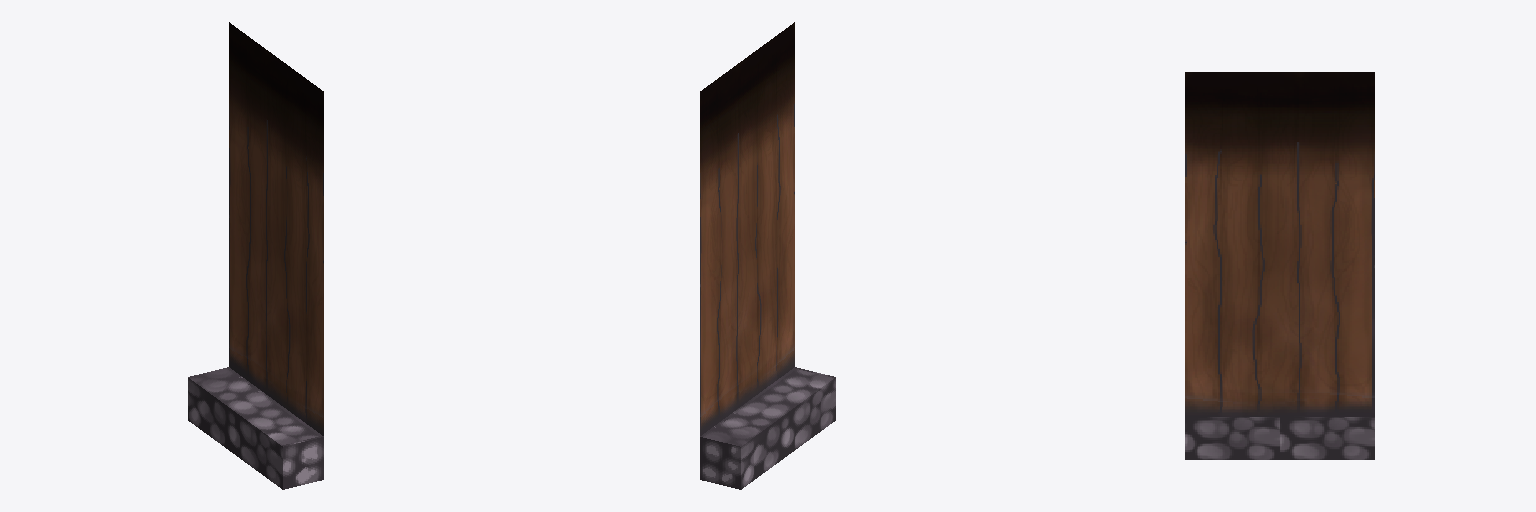
3 views of the same model, side by side, from view 1: azimuth 30°, elevation 25°; view 2: azimuth 150°, elevation 25°; view 3: azimuth 270°, elevation 25° (orthographic).
Parts seen in each view (by area): view 1: Cube.002_Cube.002, Cube.001_Cube.003; view 2: Cube.001_Cube.003, Cube.002_Cube.002; view 3: Cube.002_Cube.002, Cube.001_Cube.003.
Boxes of the visible parts, x1,y1,x2,y2 form: Cube.002_Cube.002: [235, 58, 323, 489]; Cube.001_Cube.003: [188, 22, 276, 453]; Cube.001_Cube.003: [700, 58, 788, 489]; Cube.002_Cube.002: [747, 22, 835, 453]; Cube.002_Cube.002: [1185, 72, 1374, 459]; Cube.001_Cube.003: [1280, 72, 1374, 416].
Size of the model in its own units: 1 by 9 by 4.
Materials: 1 (1 with a texture image).